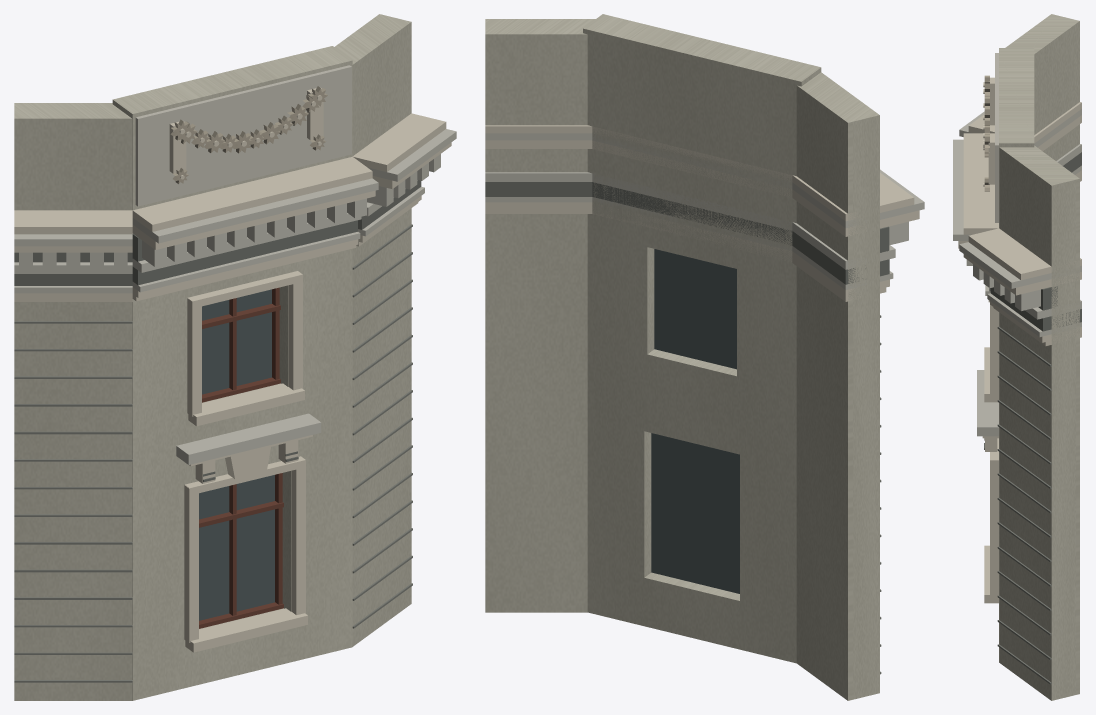
Rendered from huangpu-ezra-building-corner-dentil-cornice-raw.glb.
3 renders of one model, left to right at view 1: azimuth 30°, elevation 25°; view 2: azimuth 150°, elevation 25°; view 3: azimuth 270°, elevation 25°, orthographic. The views are drawn at different scales.
Visible parts, largest first — view 1: 新康大楼街角双层石窗与齿饰檐口; view 2: 新康大楼街角双层石窗与齿饰檐口; view 3: 新康大楼街角双层石窗与齿饰檐口.
Part boxes in pixels (x1=…): 新康大楼街角双层石窗与齿饰檐口: x1=14, y1=14, x2=456, y2=700; 新康大楼街角双层石窗与齿饰檐口: x1=485, y1=14, x2=924, y2=700; 新康大楼街角双层石窗与齿饰檐口: x1=953, y1=14, x2=1081, y2=700.
Size of the model in its own units: 5.87 by 7.44 by 1.67.
9 materials, 1 textured.
